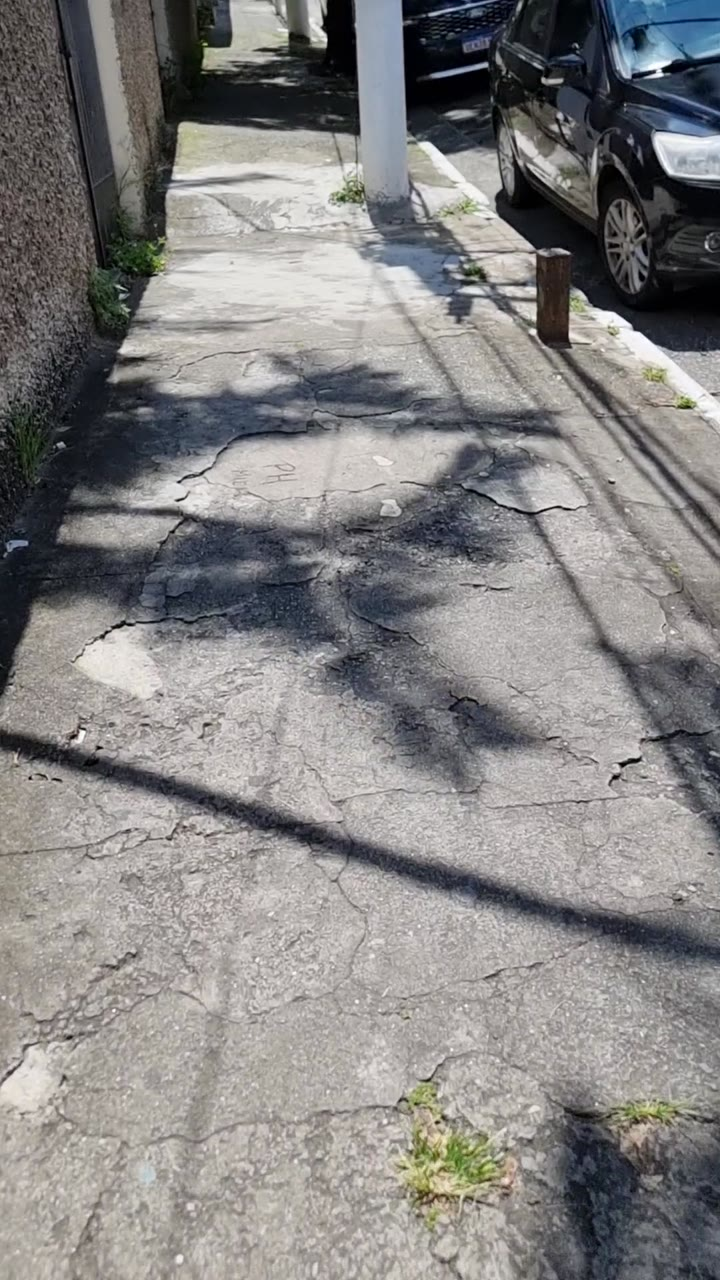obstaculo: (360, 0, 410, 205), (533, 243, 576, 346)
